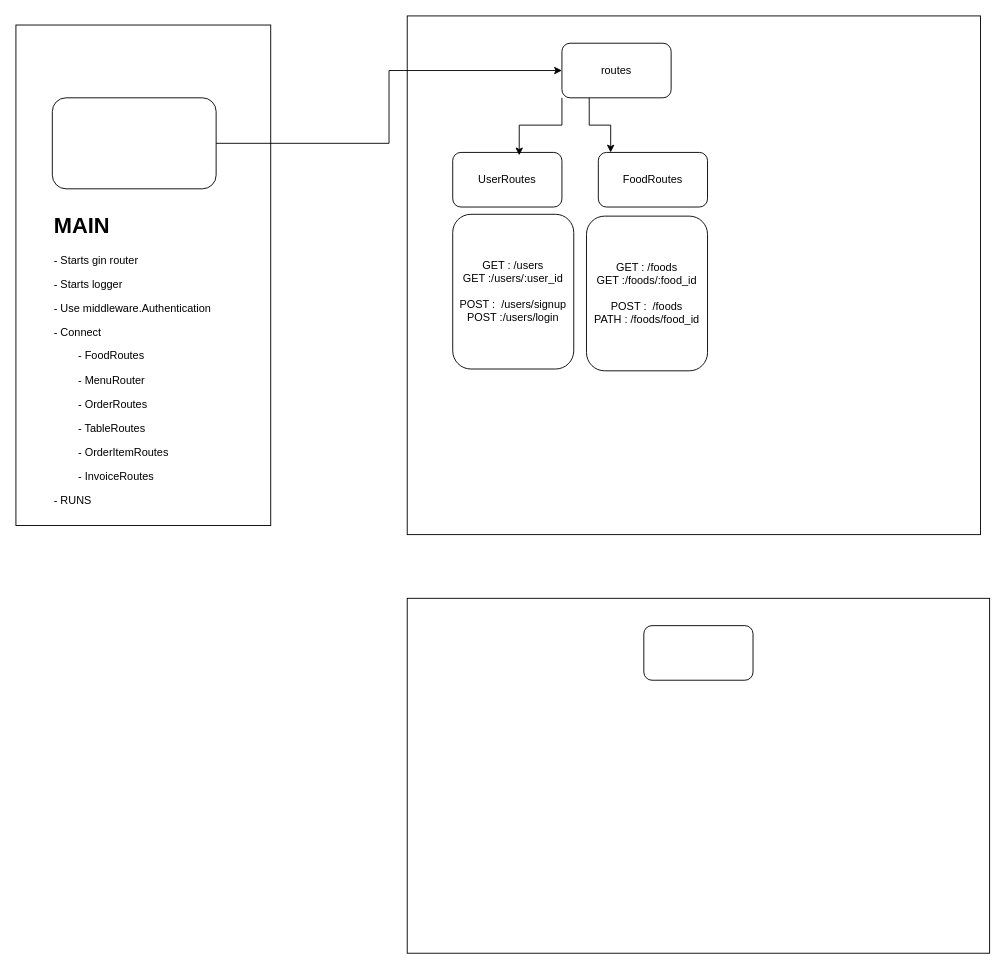
This 1006x969 diagram has some shape labels left out. The shapes that lost their labels are listed below. From the top down, each one's centre as x and y in pixels, then its label:
At point 133,143: "MAIN".
At point 698,652: "Controllers".
